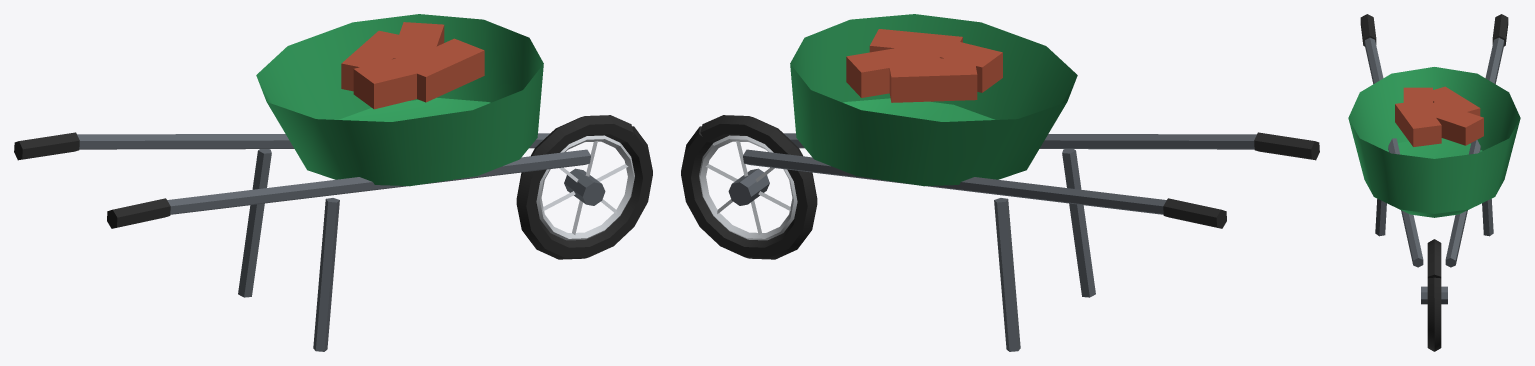
File: growth_barrow.glb
3 renders of one model, left to right at view 1: azimuth 30°, elevation 25°; view 2: azimuth 150°, elevation 25°; view 3: azimuth 270°, elevation 25°, orthographic. The views are drawn at different scales.
Parts seen in each view (by area): view 1: growth_barrow; view 2: growth_barrow; view 3: growth_barrow.
Part boxes in pixels (<box>): growth_barrow: <box>14,14,652,351</box>; growth_barrow: <box>681,14,1319,351</box>; growth_barrow: <box>1348,14,1520,351</box>.
Bounding box in the file's own units: 1.81 × 0.7275 × 0.64.
Materials: 1 (1 with a texture image).
